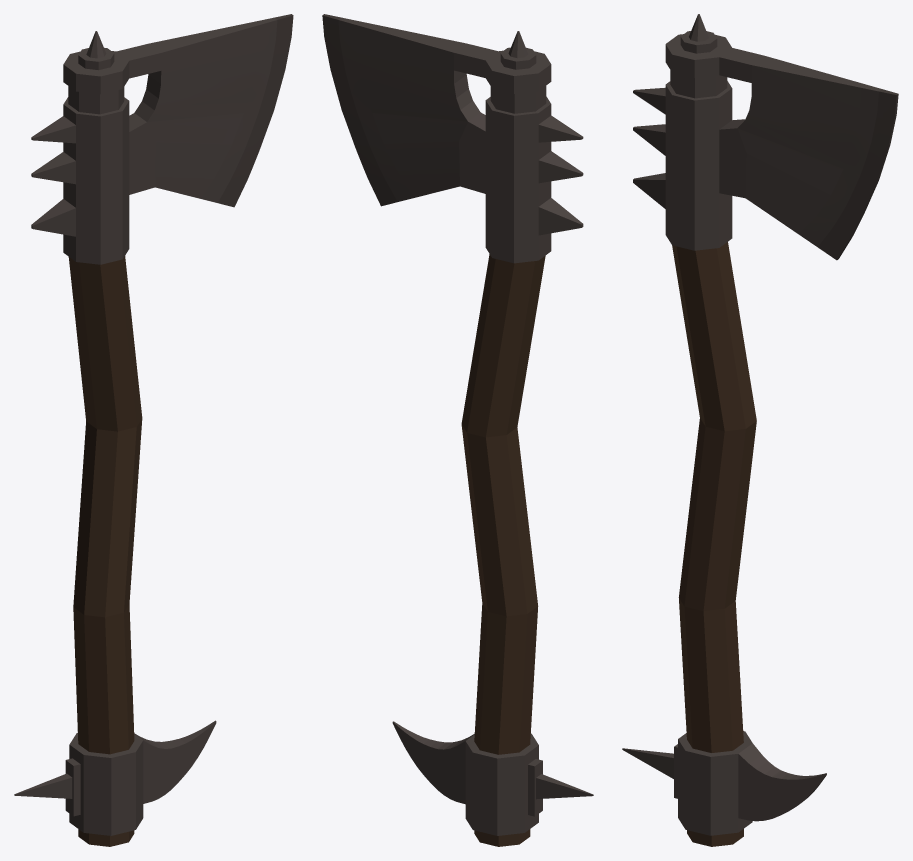
File: shop-item-1005.glb
3 views of the same model, side by side, from view 1: azimuth 30°, elevation 25°; view 2: azimuth 150°, elevation 25°; view 3: azimuth 330°, elevation 25° (orthographic).
Parts seen in each view (by area): view 1: one_handed_axe_3; view 2: one_handed_axe_3; view 3: one_handed_axe_3.
Part boxes in pixels (box(x1,y1,x2,y2)): one_handed_axe_3: box(14, 14, 293, 846); one_handed_axe_3: box(322, 14, 593, 846); one_handed_axe_3: box(622, 14, 898, 846).
Bounding box in the file's own units: 0.4258 × 1.2 × 0.0958.
Materials: 1 (1 with a texture image).
